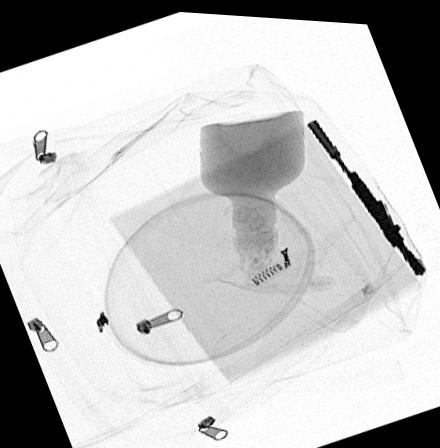Gun: (302, 112, 426, 271)
